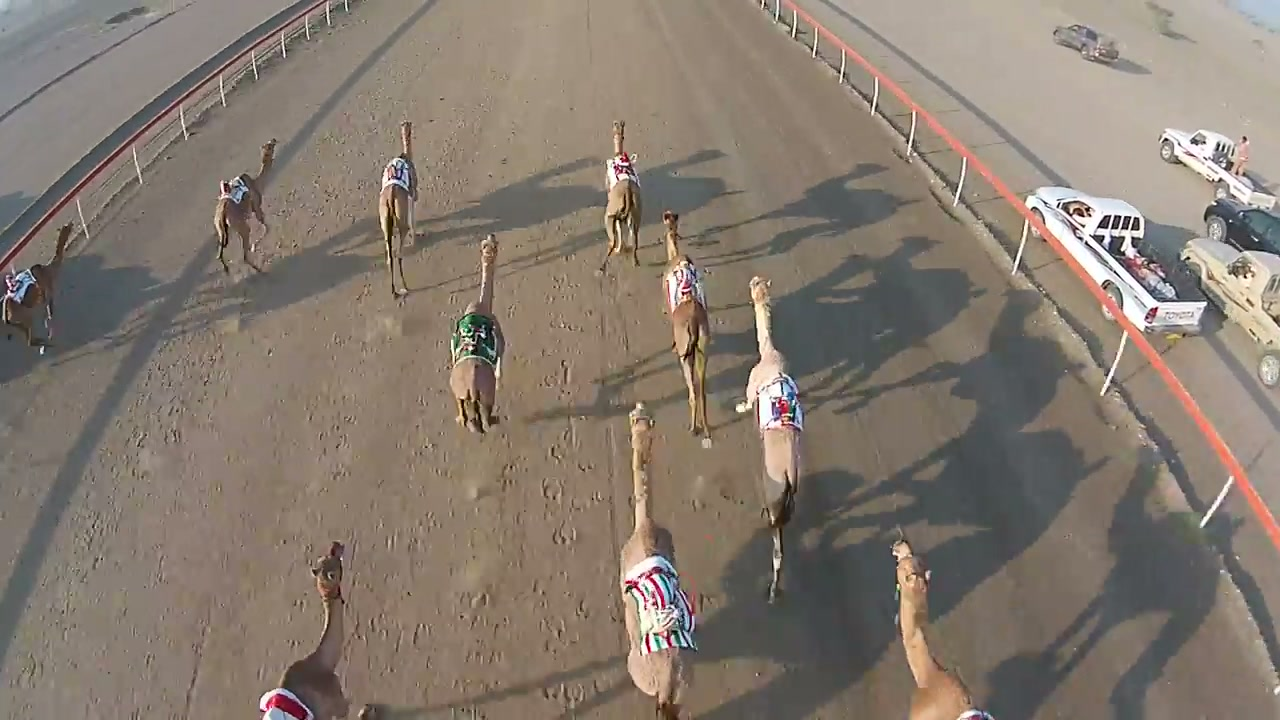animal_foot_print: (9, 295, 248, 682), (282, 287, 404, 666), (377, 438, 520, 719), (524, 276, 615, 708)
